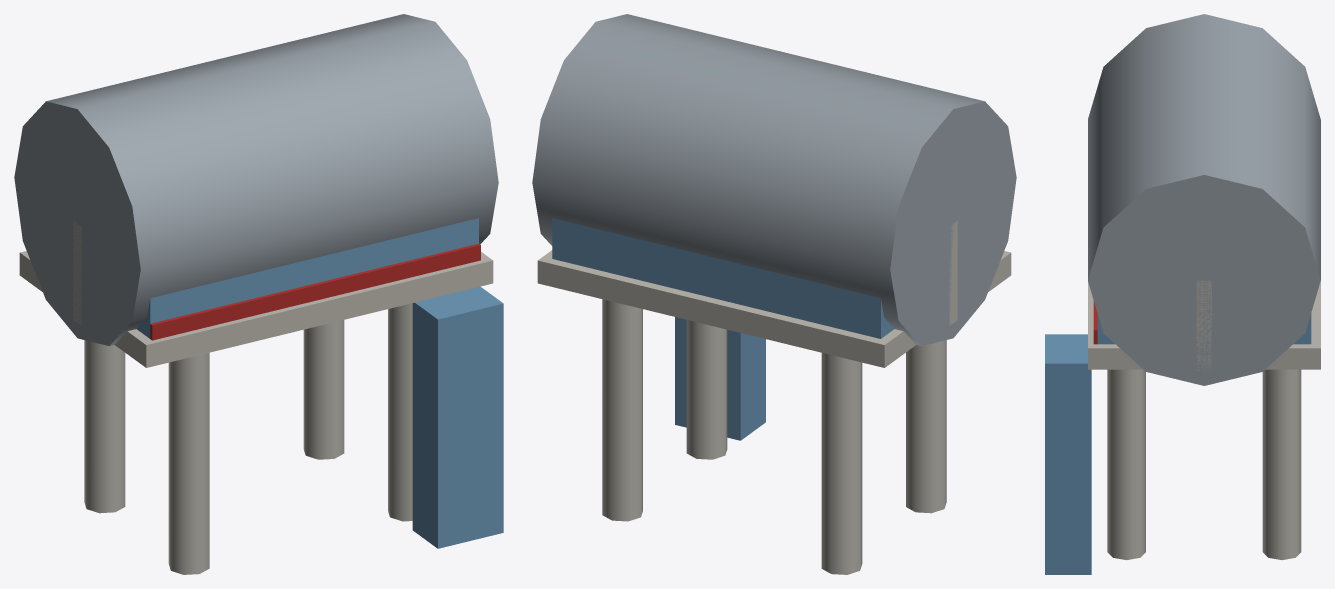
The model's file is building_stesen_mrt.glb.
The picture shows the model from 3 angles, left to right: view 1: azimuth 30°, elevation 25°; view 2: azimuth 150°, elevation 25°; view 3: azimuth 270°, elevation 25°; orthographic projection. The views are drawn at different scales.
Parts seen in each view (by area): view 1: building_stesen_mrt; view 2: building_stesen_mrt; view 3: building_stesen_mrt.
Part boxes in pixels (x1,y1,x2,y2): building_stesen_mrt: (14,14,503,574); building_stesen_mrt: (532,14,1016,574); building_stesen_mrt: (1045,14,1320,574).
Bounding box in the file's own units: 0.98 × 1.16 × 0.71.
